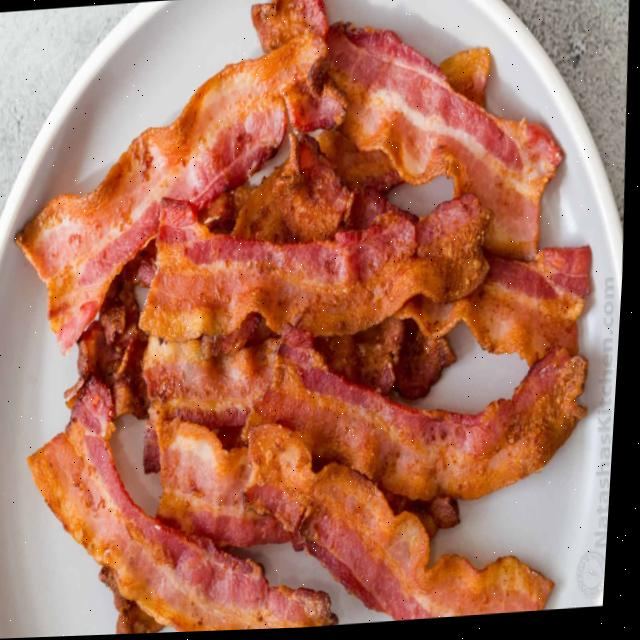Bacon: (18, 35, 349, 352), (33, 383, 345, 634), (250, 424, 560, 623), (327, 23, 564, 262), (250, 345, 592, 502), (144, 198, 492, 343), (162, 419, 299, 548), (236, 135, 358, 244)
